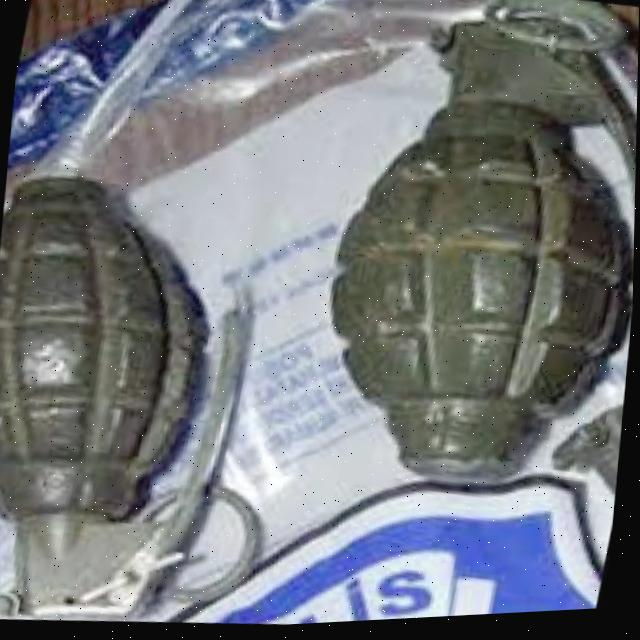grenade: (282, 0, 640, 531), (0, 132, 327, 639)
